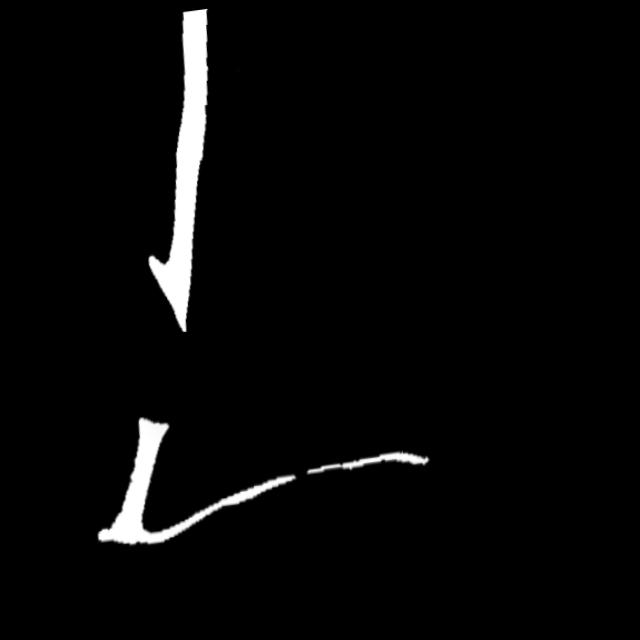sup: (287, 460, 323, 492)
